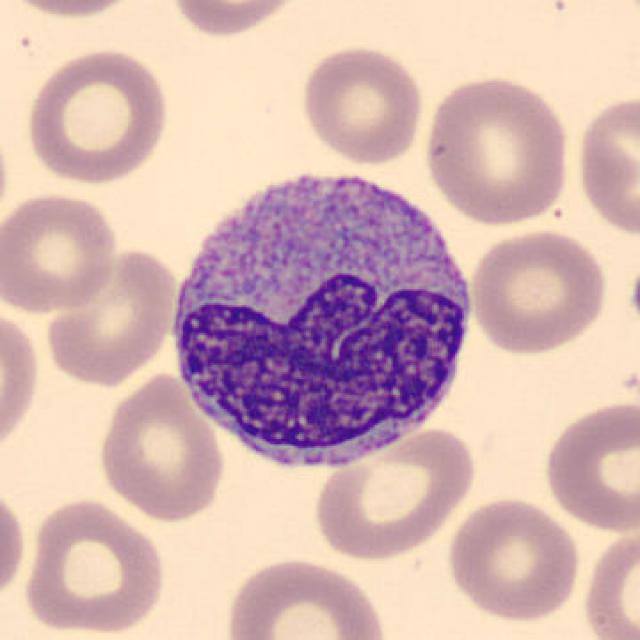Monocyte: (157, 148, 487, 485)
RBC: (309, 420, 482, 562), (422, 72, 574, 226), (18, 494, 169, 638), (21, 44, 172, 187), (94, 368, 228, 524), (39, 243, 181, 386), (466, 226, 610, 356), (443, 494, 583, 624), (297, 41, 427, 168), (0, 188, 123, 316), (218, 553, 391, 640), (539, 395, 638, 536), (572, 90, 640, 240), (0, 301, 43, 462), (580, 525, 638, 640), (165, 0, 306, 39), (0, 479, 30, 606), (0, 0, 149, 21), (0, 111, 14, 235)
